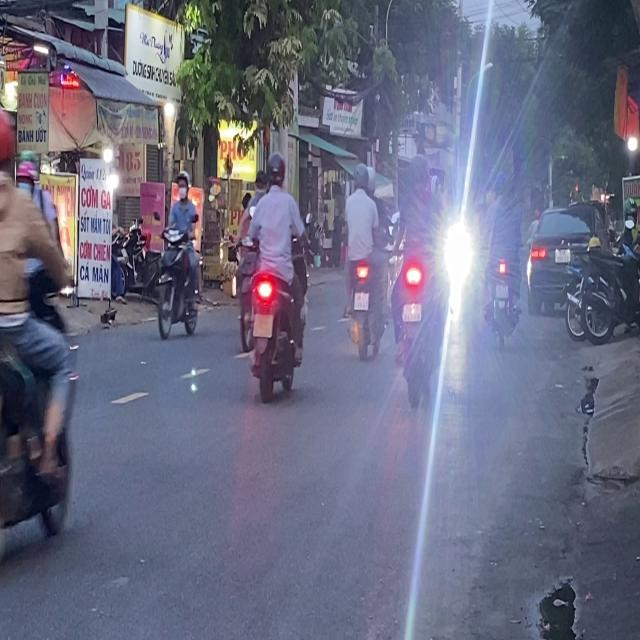helmet: (0, 105, 18, 183), (265, 150, 286, 188), (352, 162, 369, 193), (174, 169, 190, 200)
licenseplate: (0, 102, 83, 582), (238, 150, 309, 402), (341, 161, 387, 360), (154, 168, 202, 341)
nohelmet: (253, 314, 273, 336), (402, 302, 422, 322), (354, 292, 368, 308)
